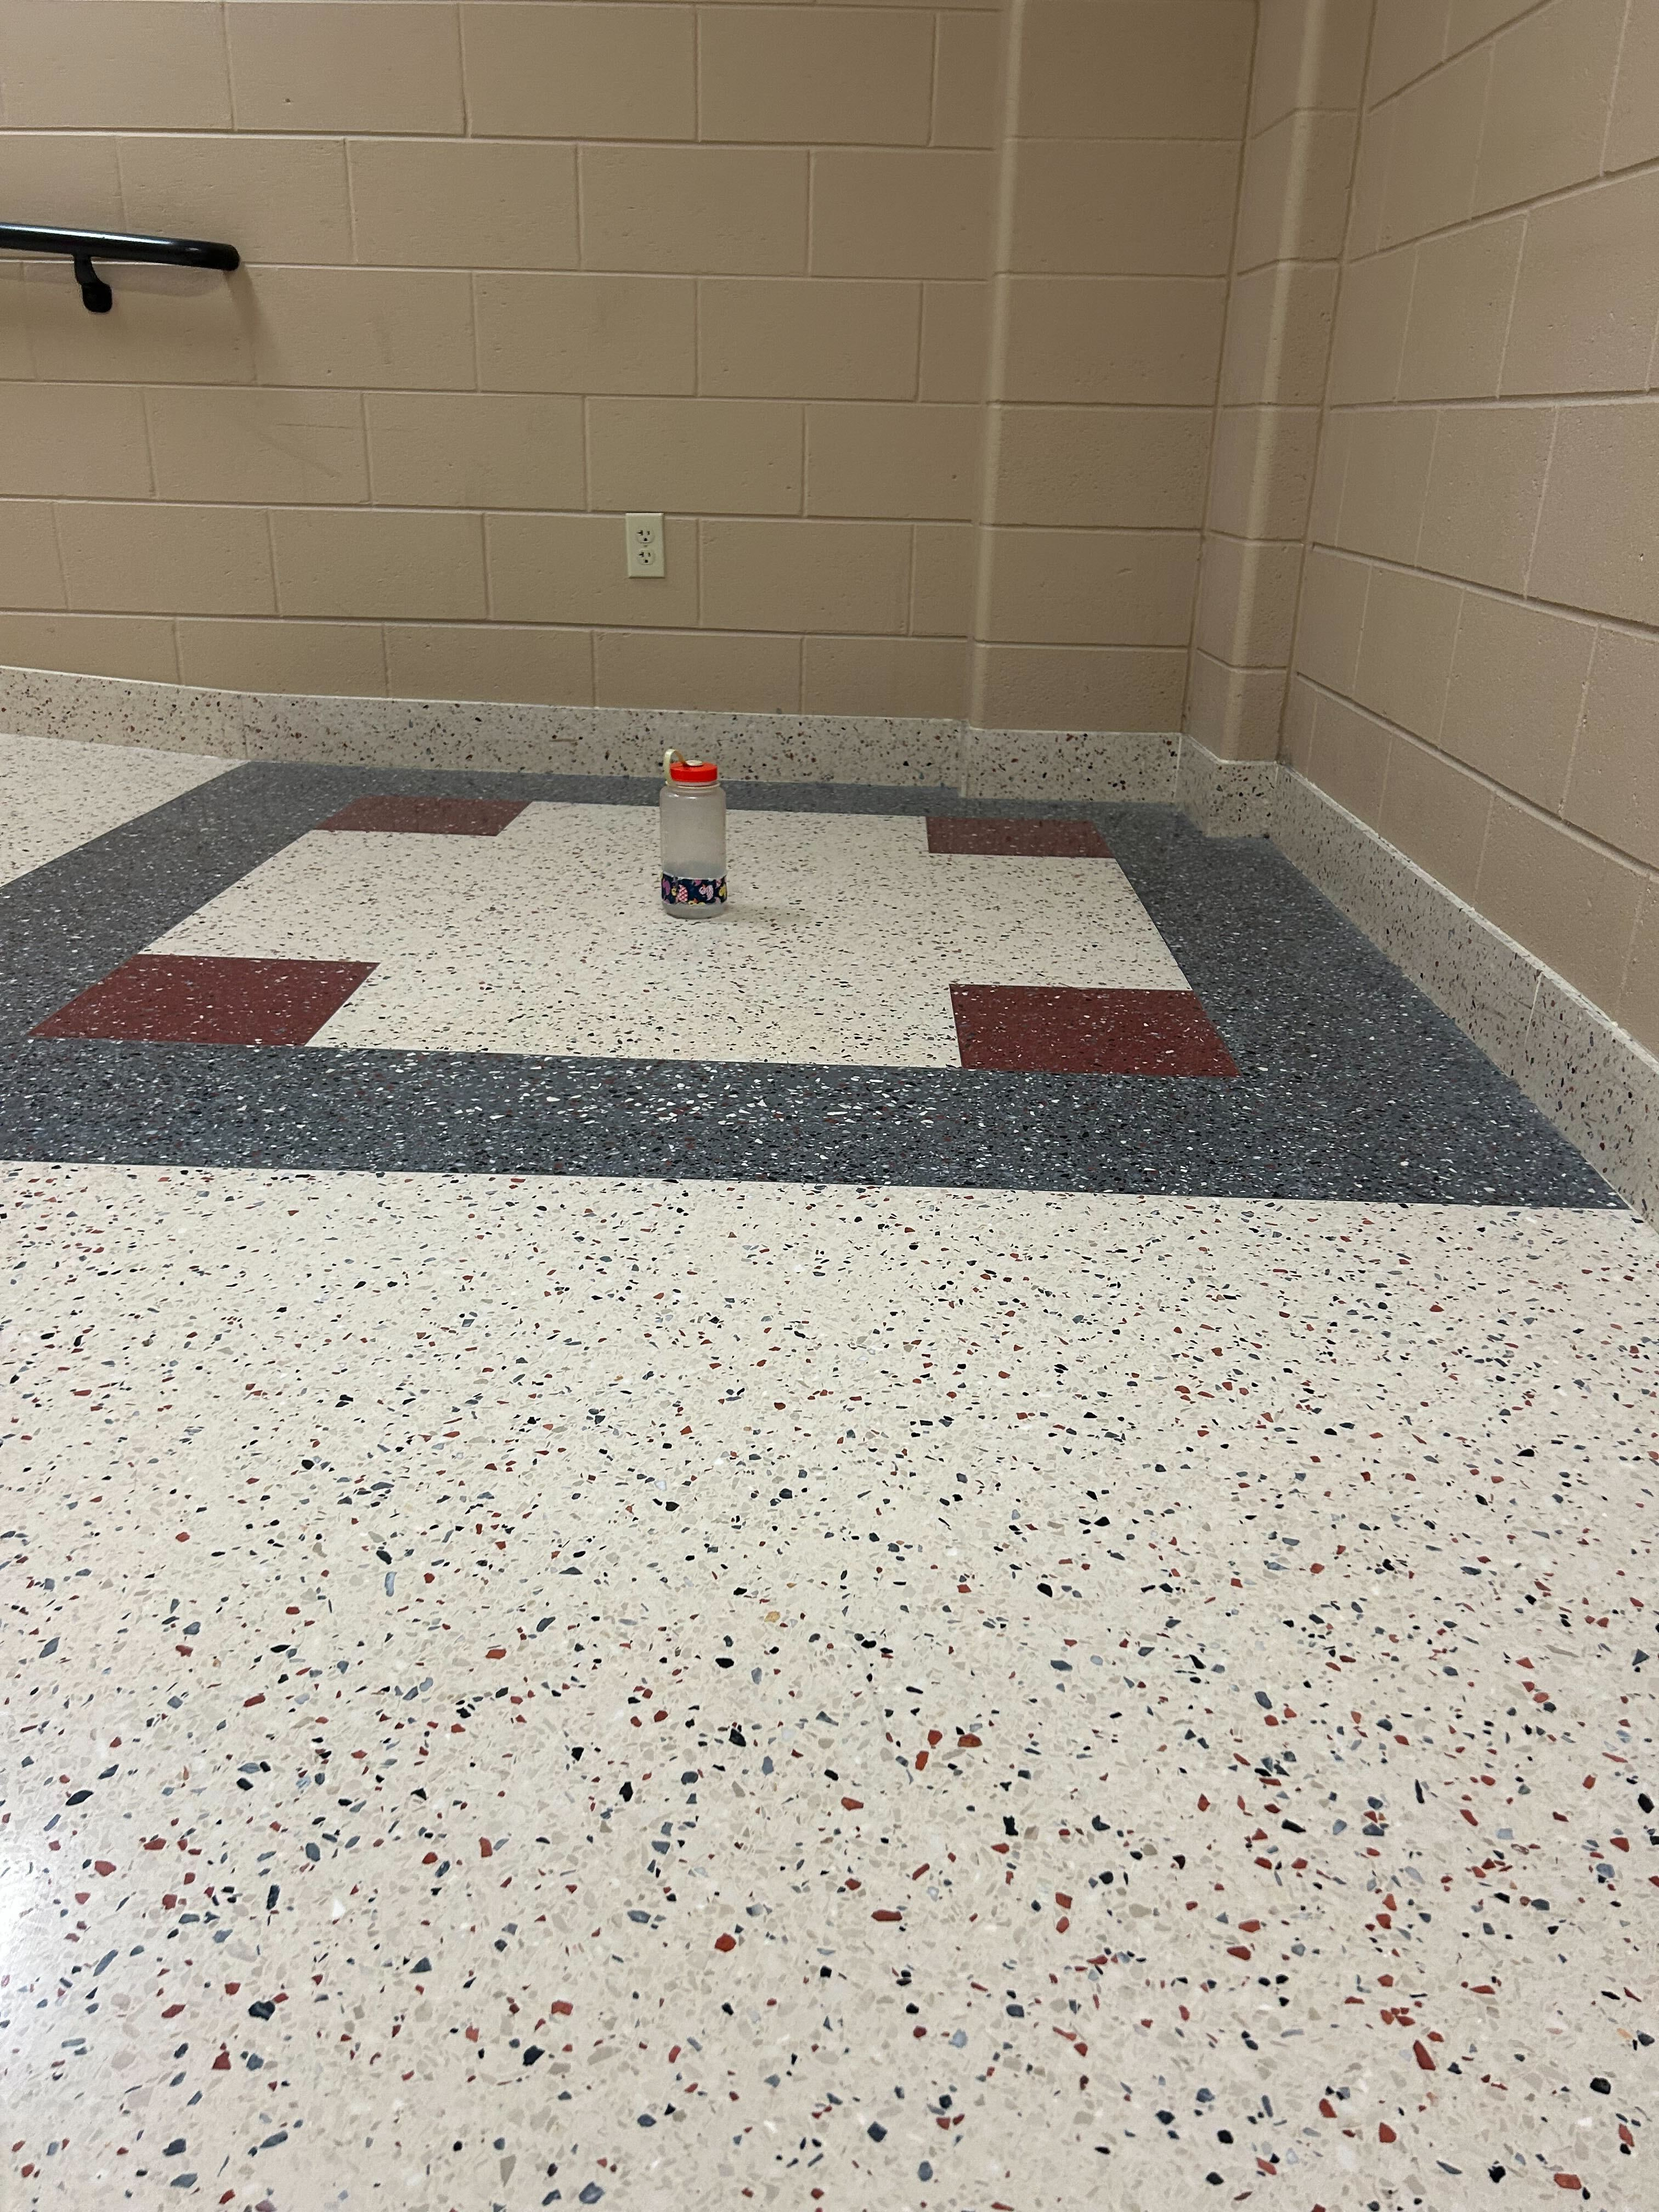bottle: (655, 735, 728, 927)
